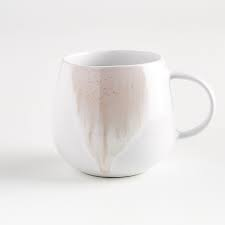cup: (52, 48, 216, 181)
